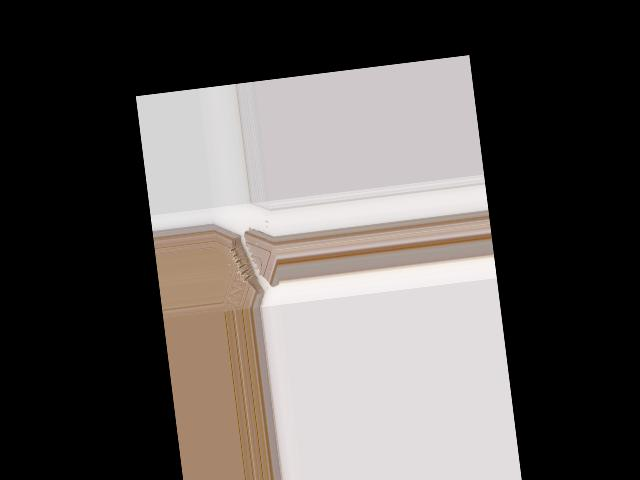chocolate: (214, 215, 282, 311)
